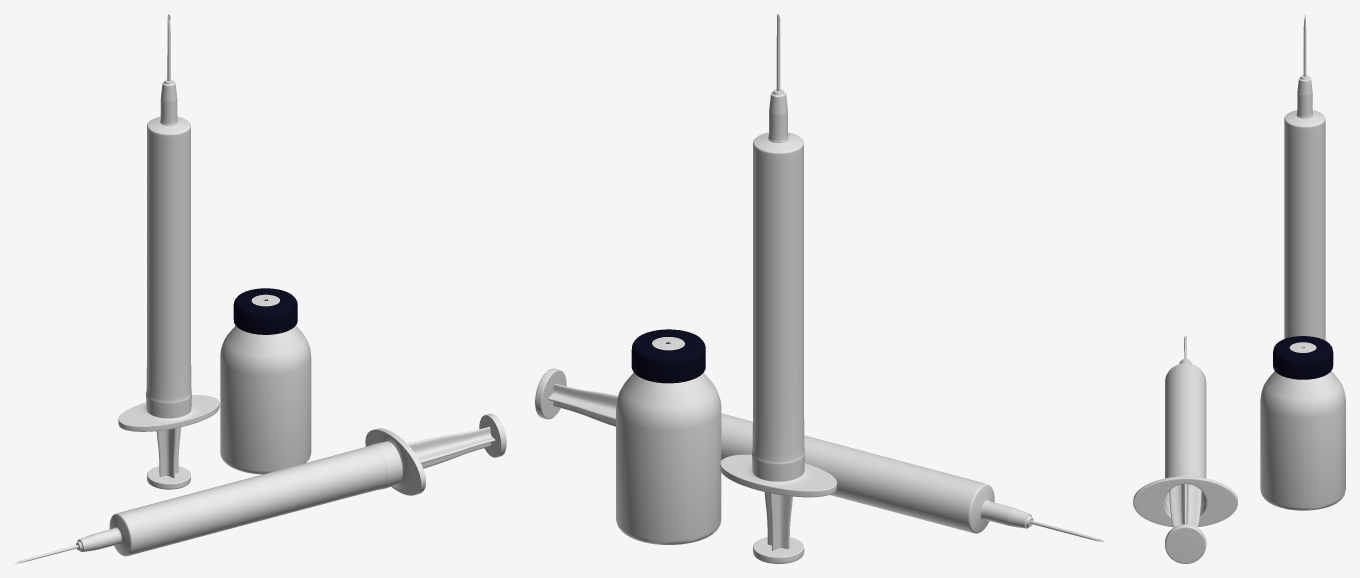
File: Vial_and_Syringe.fbx
3 renders of one model, left to right at view 1: azimuth 30°, elevation 25°; view 2: azimuth 150°, elevation 25°; view 3: azimuth 270°, elevation 25°, orthographic. The views are drawn at different scales.
Visible parts, largest first — view 1: Vial, Circle, Circle.004, Circle.005, Circle.001, Circle.002, Circle.006; view 2: Vial, Circle, Circle.004, Circle.005, Circle.001, Circle.002, Circle.006; view 3: Vial, Circle, Circle.004, Circle.005, Circle.002.
Part boxes in pixels (x1,y1,x2,y2): Vial: [220, 288, 311, 474]; Circle: [118, 116, 219, 431]; Circle.004: [109, 428, 425, 556]; Circle.005: [407, 413, 506, 468]; Circle.001: [147, 427, 190, 489]; Circle.002: [160, 14, 177, 125]; Circle.006: [14, 527, 121, 563]; Vial: [616, 329, 721, 544]; Circle: [720, 132, 836, 497]; Circle.004: [721, 413, 994, 533]; Circle.005: [535, 368, 617, 426]; Circle.001: [753, 492, 804, 563]; Circle.002: [768, 14, 788, 142]; Circle.006: [980, 500, 1104, 542]; Vial: [1260, 336, 1345, 510]; Circle: [1284, 110, 1325, 340]; Circle.004: [1133, 363, 1237, 526]; Circle.005: [1165, 484, 1206, 563]; Circle.002: [1296, 14, 1313, 118].
Bounding box in the file's own units: 183 × 170 × 74.64.
